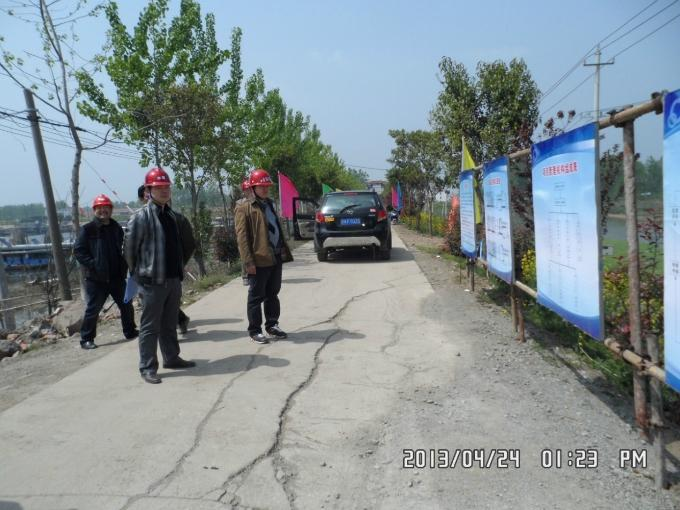helmet: (142, 168, 173, 190), (244, 169, 273, 188), (91, 194, 114, 209)
no_wear: (129, 209, 188, 291), (233, 197, 278, 269), (75, 222, 121, 286)
